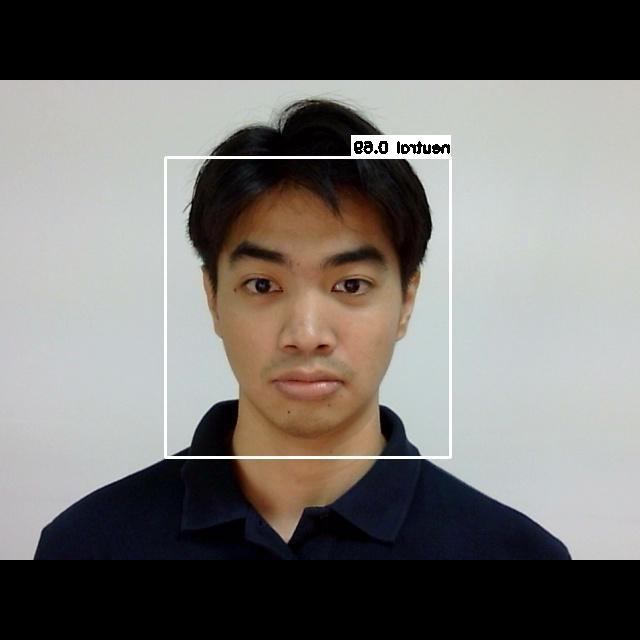Fear: (204, 221, 399, 419)
